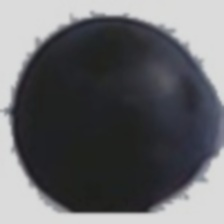grapes: (39, 18, 211, 191)
